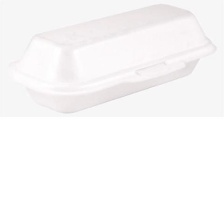foam_box: (0, 0, 224, 117)
